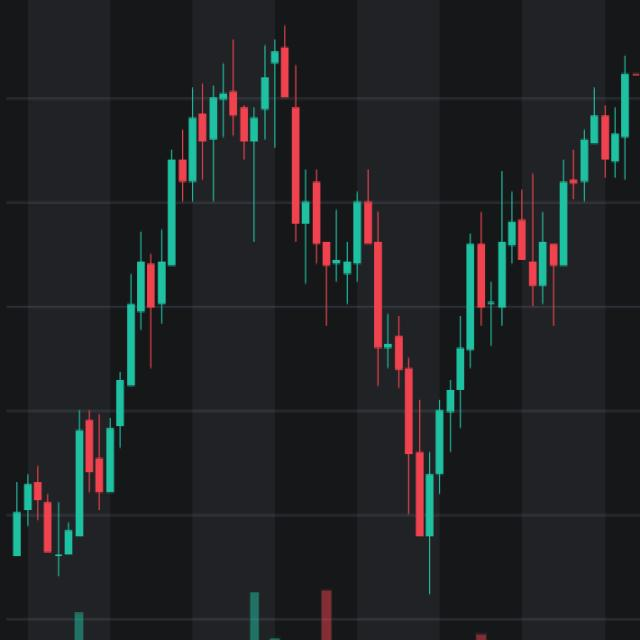Resistance-Emerging: (16, 22, 635, 556)
